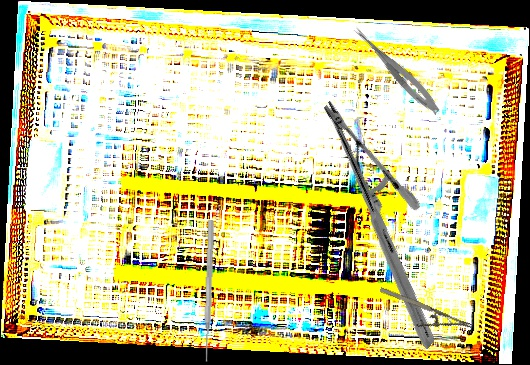Micro Scissor: (347, 23, 445, 118)
Needle Holder: (246, 99, 512, 350), (372, 284, 474, 347)
Pusher: (201, 219, 216, 364)
